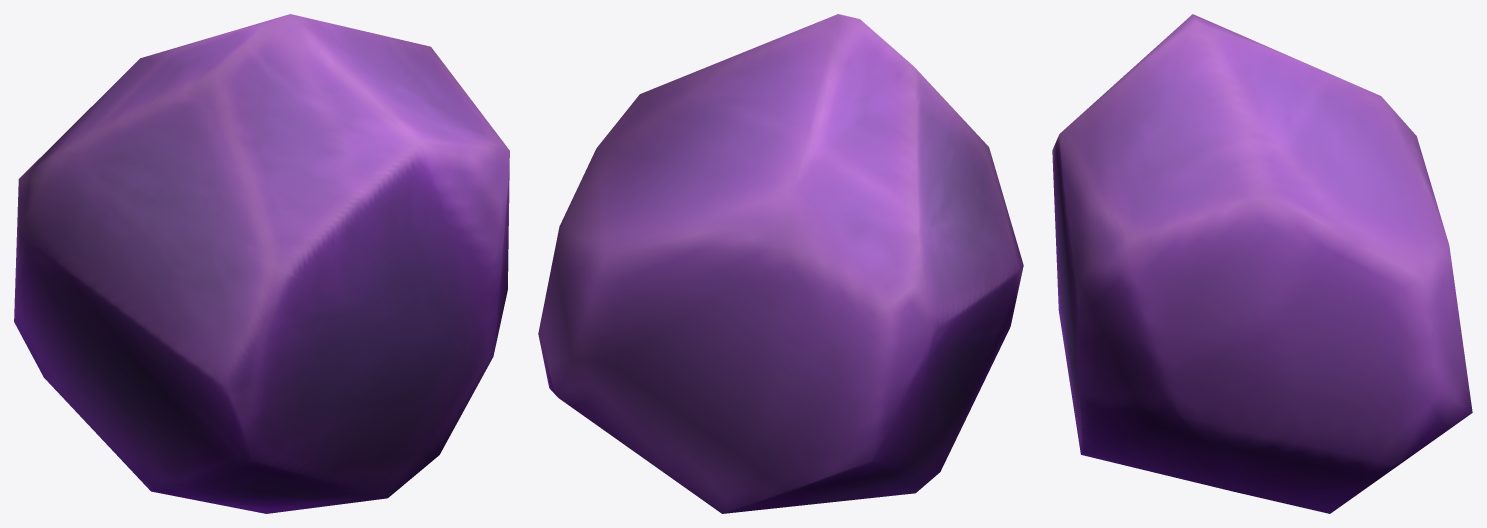
Rendered from SM_Gem_Amethyst_Piece_002.fbx.
3 views of the same model, side by side, from view 1: azimuth 30°, elevation 25°; view 2: azimuth 150°, elevation 25°; view 3: azimuth 270°, elevation 25° (orthographic). The views are drawn at different scales.
Visible parts, largest first — view 1: SM_Gem_Amethyst_Piece_002; view 2: SM_Gem_Amethyst_Piece_002; view 3: SM_Gem_Amethyst_Piece_002.
Boxes of the visible parts, x1,y1,x2,y2 form: SM_Gem_Amethyst_Piece_002: (14, 14, 509, 513); SM_Gem_Amethyst_Piece_002: (538, 14, 1023, 513); SM_Gem_Amethyst_Piece_002: (1052, 14, 1472, 513).
Bounding box in the file's own units: 12.3 × 14.93 × 12.15.
